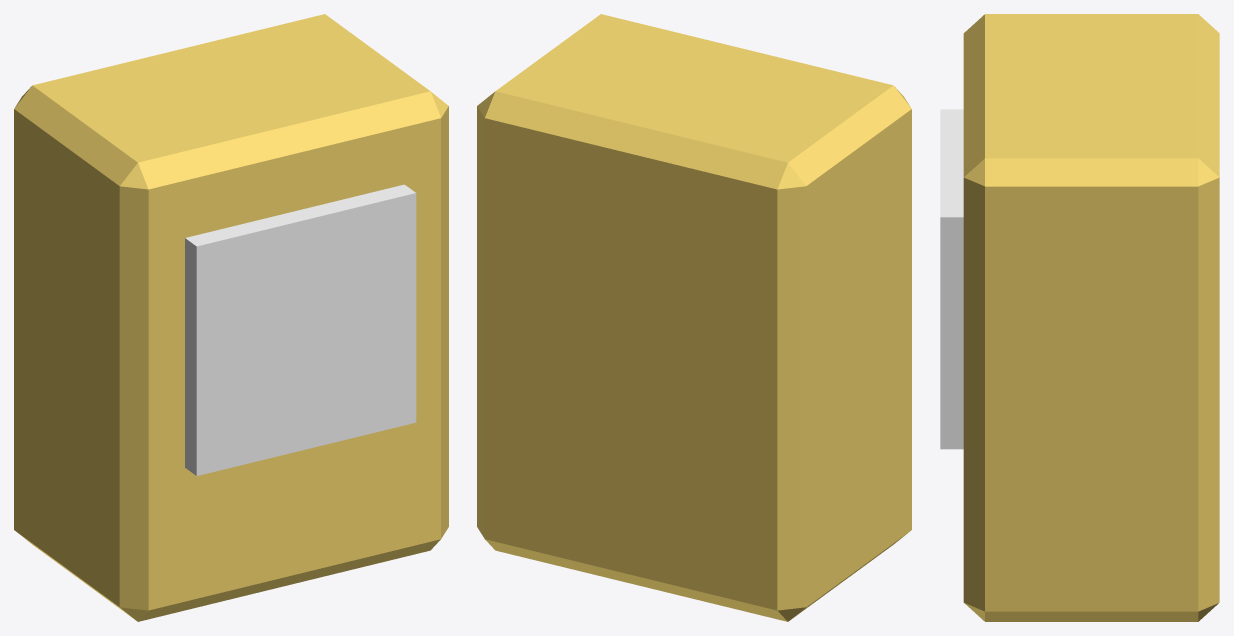
3 renders of one model, left to right at view 1: azimuth 30°, elevation 25°; view 2: azimuth 150°, elevation 25°; view 3: azimuth 270°, elevation 25°, orthographic.
Visible parts, largest first — view 1: Package, Front label; view 2: Package; view 3: Package, Front label.
Part boxes in pixels (x1,y1,x2,y2): Package: (14, 14, 448, 621); Front label: (185, 184, 416, 475); Package: (477, 14, 911, 621); Package: (963, 14, 1219, 621); Front label: (940, 109, 963, 449).
Bounding box in the file's own units: 18 × 24 × 13.1.
